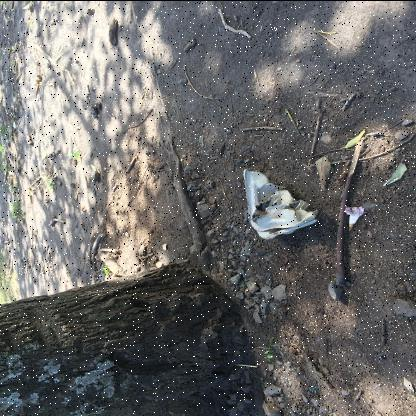cardboard: (242, 168, 318, 239)
